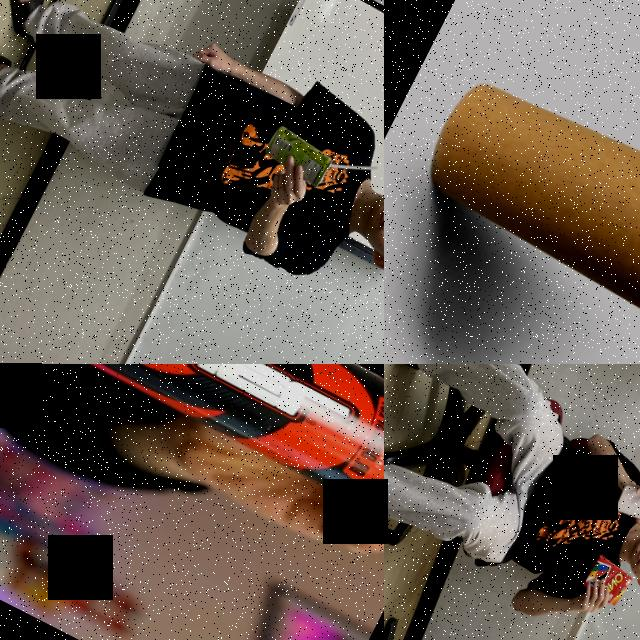can: (0, 364, 384, 538), (258, 120, 338, 192)
cup: (395, 42, 640, 364)
